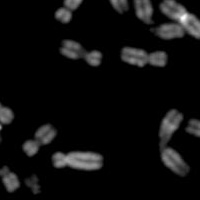chromosome: (159, 109, 189, 176), (135, 0, 185, 37), (162, 0, 200, 38), (23, 124, 56, 155), (62, 40, 102, 65), (52, 150, 101, 170), (121, 48, 166, 68), (56, 0, 86, 23), (0, 165, 18, 192), (0, 87, 12, 124), (26, 173, 42, 194), (186, 118, 200, 137), (0, 124, 3, 144)
